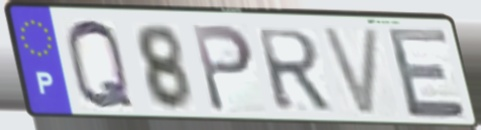8: (133, 20, 196, 114)
E: (383, 25, 470, 122)
P: (189, 23, 257, 116)
Q: (63, 17, 139, 115)
R: (253, 27, 335, 114)
V: (317, 24, 384, 120)
